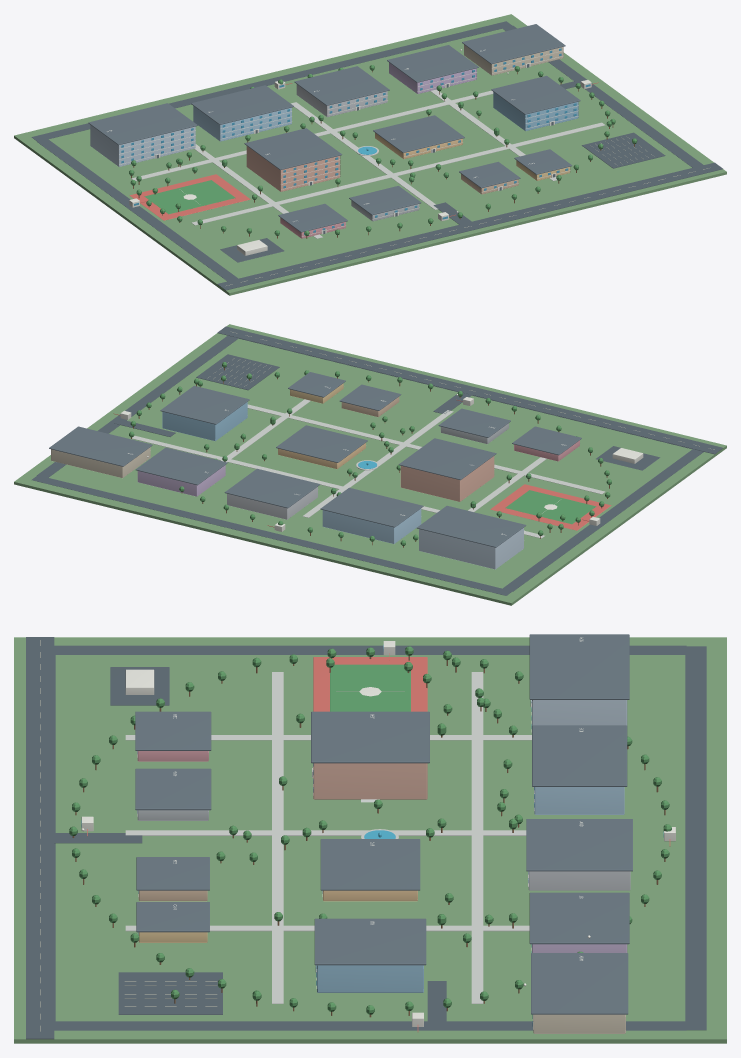
Rendered from campusops_master.glb.
3 views of the same model, one above another, from view 1: azimuth 30°, elevation 25°; view 2: azimuth 150°, elevation 25°; view 3: azimuth 270°, elevation 25° (orthographic). The views are drawn at different scales.
Parts seen in each view (by area): view 1: campus_ground, campus_main_road, perimeter_north, roof_ACB, roof_HST, roof_ADM, roof_SCB, building_ACB, perimeter_west, roof_AUD, building_HST, roof_ITB (+22 smaller); view 2: campus_ground, campus_main_road, perimeter_north, roof_ACB, building_ACB, roof_HST, roof_ADM, roof_SCB, perimeter_west, roof_AUD, building_HST, roof_ITB (+24 smaller); view 3: campus_ground, campus_main_road, perimeter_north, roof_ACB, roof_HST, roof_ADM, roof_SCB, roof_AUD, roof_ITB, roof_LIB, roof_CAF, perimeter_east (+30 smaller).
Boxes of the visible parts, x1,y1,x2,y2 form: campus_ground: [14, 14, 726, 295]; campus_main_road: [217, 162, 722, 290]; perimeter_north: [31, 21, 511, 141]; roof_ACB: [88, 103, 197, 145]; roof_HST: [244, 128, 342, 170]; roof_ADM: [462, 24, 565, 64]; roof_SCB: [191, 85, 293, 124]; building_ACB: [90, 125, 195, 166]; perimeter_west: [37, 139, 237, 281]; roof_AUD: [294, 66, 389, 105]; building_HST: [246, 146, 340, 191]; roof_ITB: [491, 75, 580, 114]; campus_ground: [14, 324, 726, 605]; campus_main_road: [217, 326, 722, 454]; perimeter_north: [32, 475, 512, 595]; roof_ACB: [417, 505, 526, 547]; building_ACB: [419, 527, 523, 569]; roof_HST: [398, 438, 496, 480]; roof_ADM: [49, 426, 152, 466]; roof_SCB: [320, 487, 423, 527]; perimeter_west: [502, 449, 703, 591]; roof_AUD: [224, 468, 320, 508]; building_HST: [400, 456, 494, 501]; roof_ITB: [160, 385, 249, 424]; campus_ground: [14, 637, 726, 1043]; campus_main_road: [26, 637, 54, 1039]; perimeter_north: [685, 646, 706, 1030]; roof_ACB: [529, 634, 629, 699]; roof_HST: [311, 711, 429, 763]; roof_ADM: [531, 953, 628, 1014]; roof_SCB: [532, 725, 627, 786]; roof_AUD: [526, 819, 632, 871]; roof_ITB: [314, 918, 426, 965]; roof_LIB: [529, 892, 629, 944]; roof_CAF: [320, 839, 420, 890]; perimeter_east: [54, 1021, 686, 1030].
Bounding box in the file's own units: 400 × 20.35 × 300.
